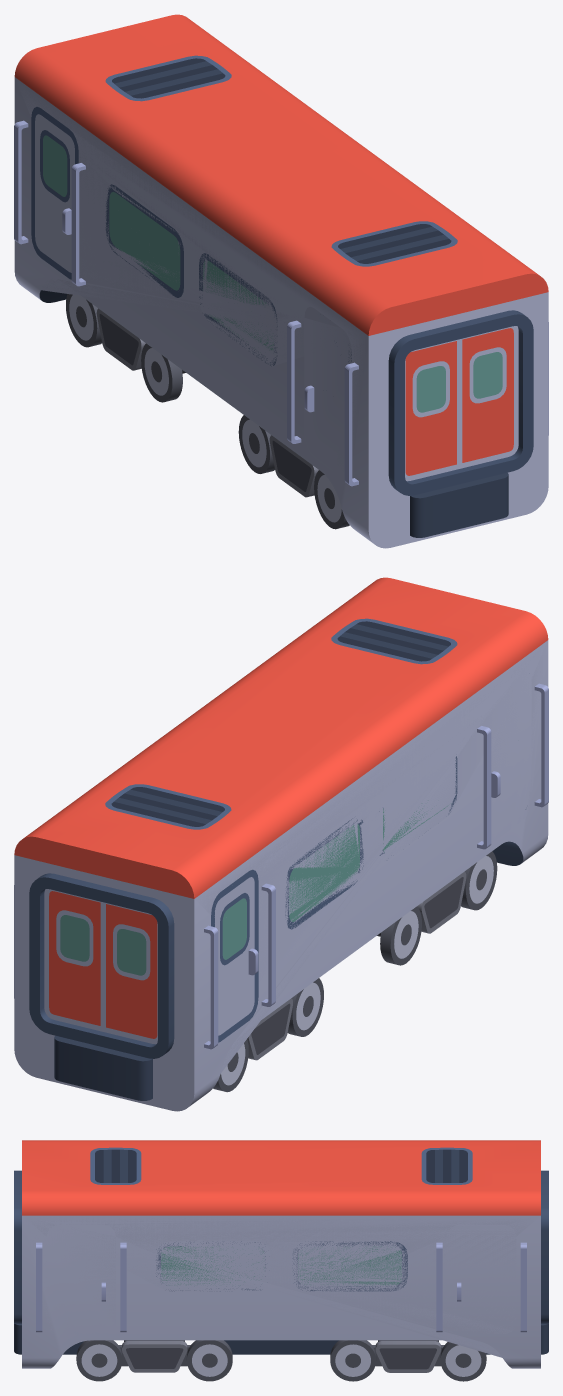
Rendered from Wagon Passenger B.fbx.
3 views of the same model, one above another, from view 1: azimuth 30°, elevation 25°; view 2: azimuth 150°, elevation 25°; view 3: azimuth 270°, elevation 25° (orthographic). The views are drawn at different scales.
Parts seen in each view (by area): view 1: Wagon Paseenger B, Wagon Paseenger B Door.002, Wagon Paseenger B Wheel.002, Wagon Paseenger B Wheel.001, Wagon Paseenger B Wheel, Wagon Paseenger B Wheel.005, Wagon Paseenger B Wheel.003, Wagon Paseenger B Wheel.004; view 2: Wagon Paseenger B, Wagon Paseenger B Door.002, Wagon Paseenger B Wheel.005, Wagon Paseenger B Wheel.001, Wagon Paseenger B Wheel, Wagon Paseenger B Wheel.004, Wagon Paseenger B Wheel.002, Wagon Paseenger B Wheel.003; view 3: Wagon Paseenger B, Wagon Paseenger B Wheel, Wagon Paseenger B Wheel.001, Wagon Paseenger B Wheel.005, Wagon Paseenger B Wheel.002, Wagon Paseenger B Wheel.004, Wagon Paseenger B Wheel.003.
Part boxes in pixels (x1,y1,x2,y2): Wagon Paseenger B: [14, 14, 548, 548]; Wagon Paseenger B Door.002: [31, 107, 78, 279]; Wagon Paseenger B Wheel.002: [141, 343, 185, 402]; Wagon Paseenger B Wheel.001: [269, 435, 318, 497]; Wagon Paseenger B Wheel: [96, 308, 145, 370]; Wagon Paseenger B Wheel.005: [238, 415, 274, 473]; Wagon Paseenger B Wheel.003: [66, 294, 101, 347]; Wagon Paseenger B Wheel.004: [314, 470, 349, 529]; Wagon Paseenger B: [14, 577, 548, 1111]; Wagon Paseenger B Door.002: [211, 869, 258, 1042]; Wagon Paseenger B Wheel.005: [377, 906, 421, 965]; Wagon Paseenger B Wheel.001: [417, 871, 466, 933]; Wagon Paseenger B Wheel: [247, 998, 292, 1060]; Wagon Paseenger B Wheel.004: [461, 851, 497, 910]; Wagon Paseenger B Wheel.002: [287, 978, 323, 1036]; Wagon Paseenger B Wheel.003: [213, 1039, 248, 1092]; Wagon Paseenger B: [14, 1140, 548, 1368]; Wagon Paseenger B Wheel: [372, 1340, 444, 1372]; Wagon Paseenger B Wheel.001: [118, 1340, 190, 1372]; Wagon Paseenger B Wheel.005: [186, 1340, 232, 1381]; Wagon Paseenger B Wheel.002: [330, 1340, 376, 1381]; Wagon Paseenger B Wheel.004: [76, 1340, 122, 1381]; Wagon Paseenger B Wheel.003: [440, 1342, 486, 1381].
Bounding box in the file's own units: 3.12 × 3.83 × 9.87.
